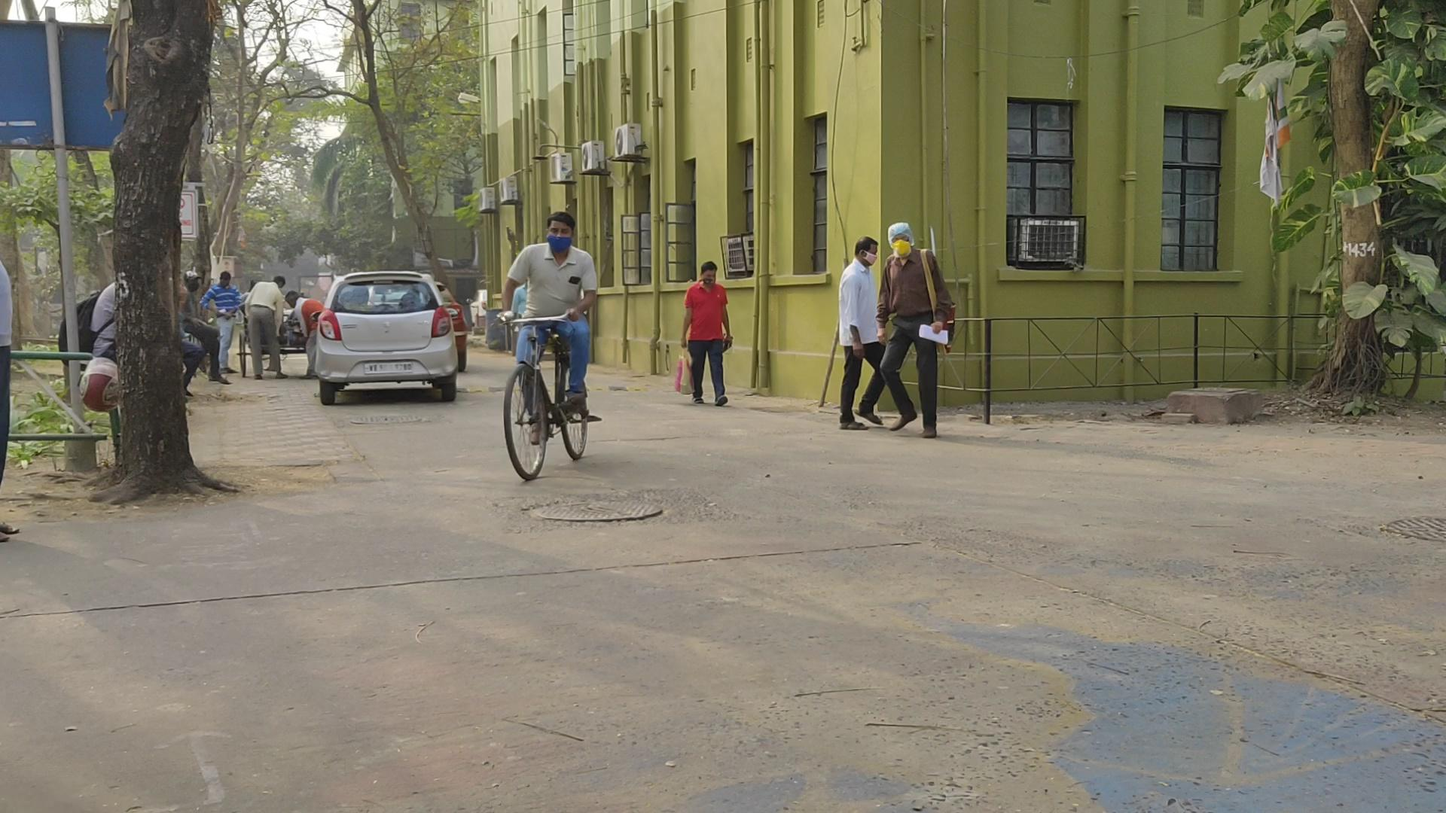car: (314, 270, 458, 406)
